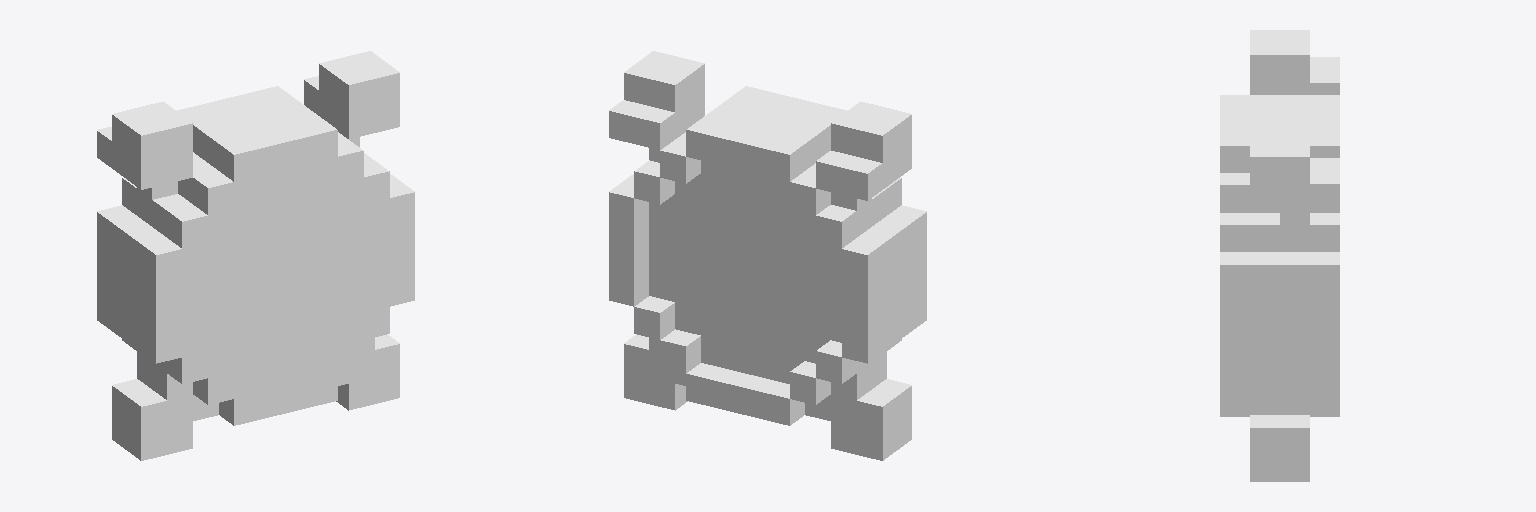
File: alarmed_clock.vox.obj
3 views of the same model, side by side, from view 1: azimuth 30°, elevation 25°; view 2: azimuth 150°, elevation 25°; view 3: azimuth 270°, elevation 25° (orthographic).
Visible parts, largest first — view 1: object 1; view 2: object 1; view 3: object 1.
Part boxes in pixels (left/top/right/bottom): object 1: left=97, top=51, right=414, bottom=460; object 1: left=609, top=51, right=926, bottom=460; object 1: left=1220, top=30, right=1339, bottom=481.
Size of the model in its own units: 1 by 1.2 by 0.4.